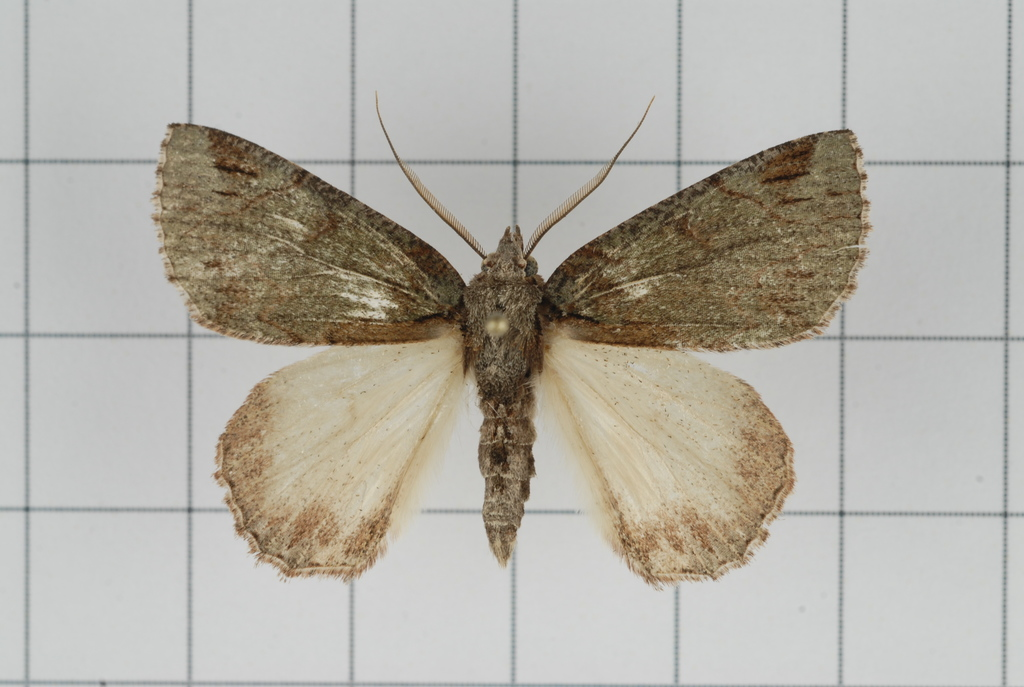Butterfly: (148, 89, 891, 618)
